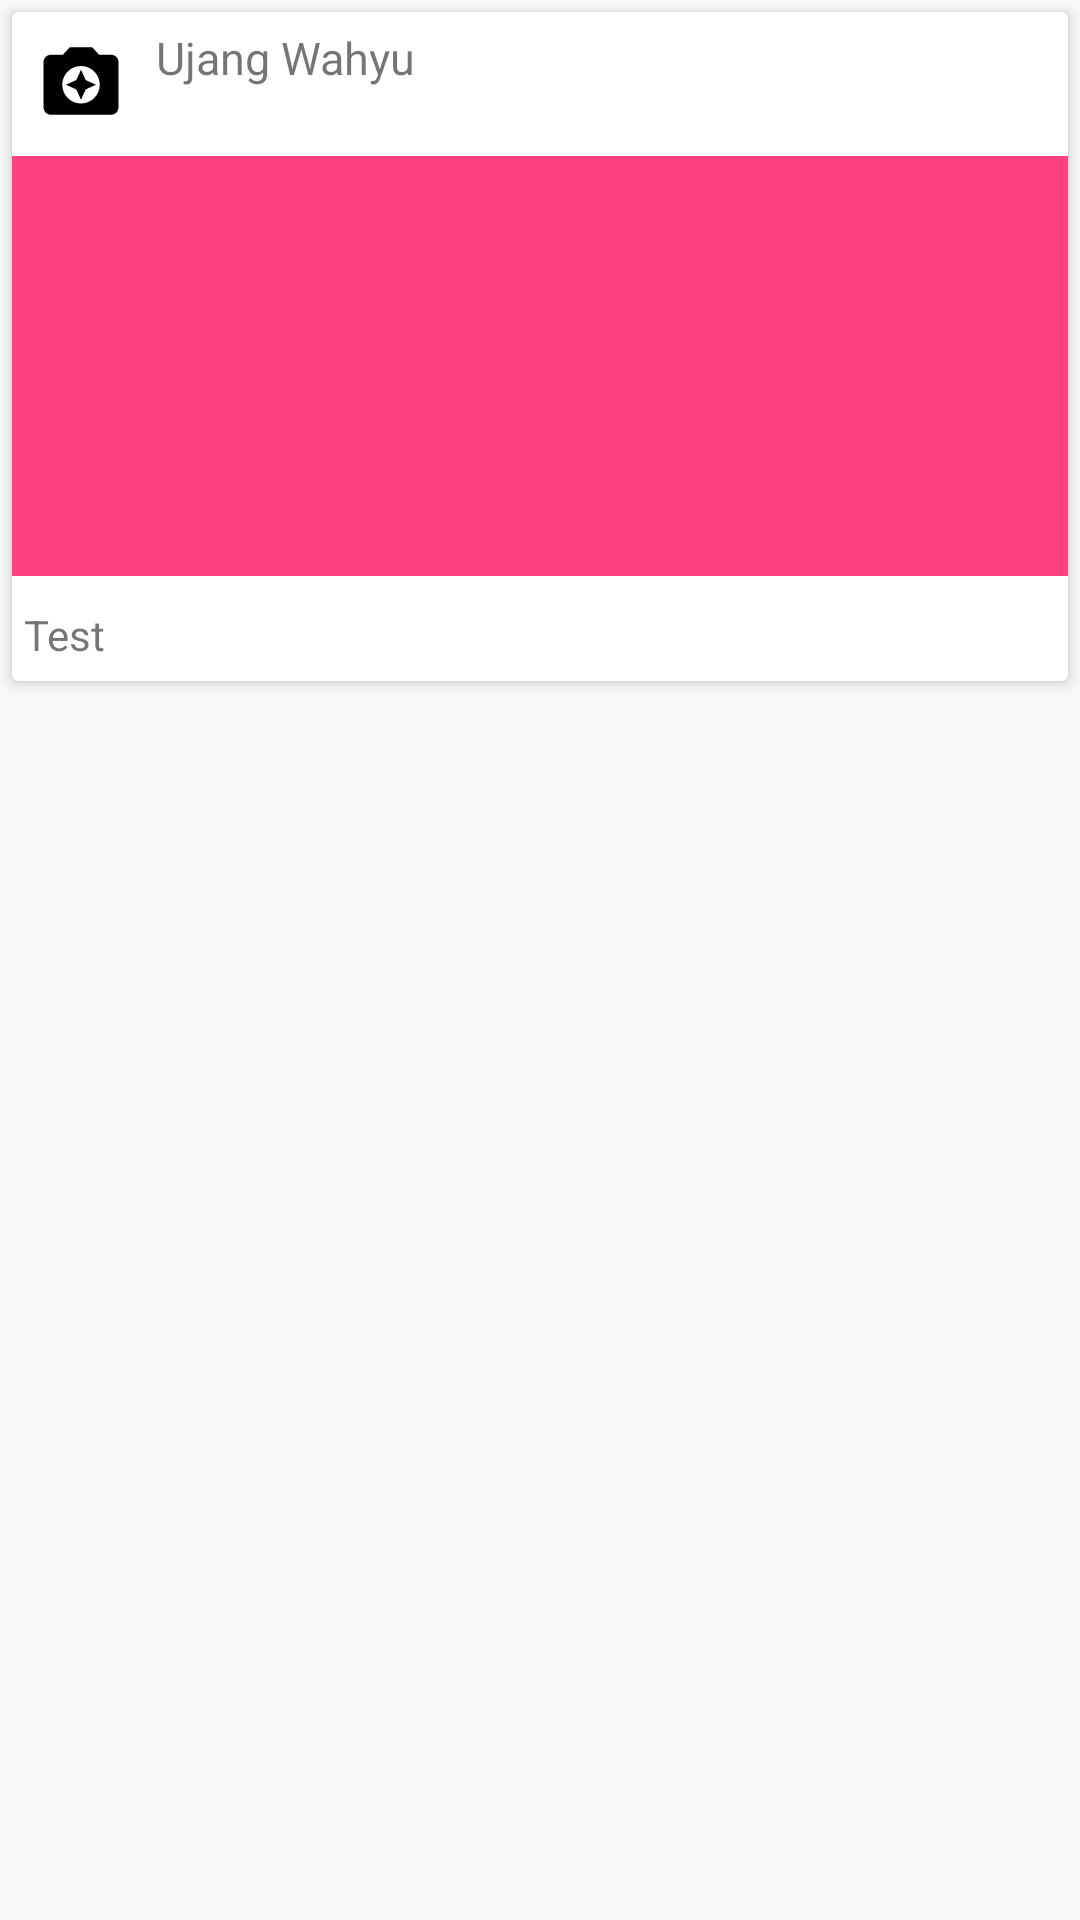

Icons on this 1080 × 1920 Android screen, each with its box as [x1, y1, x2, y2]:
camera enhance: [43, 47, 119, 115]
